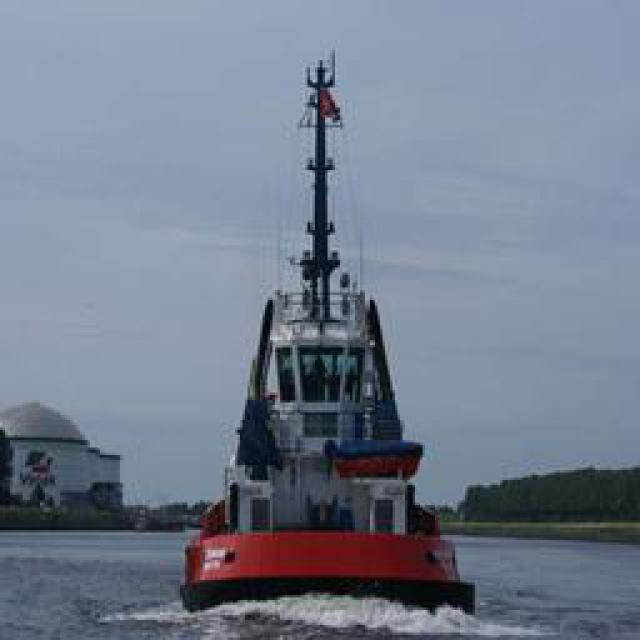Ship: (185, 44, 463, 609)
